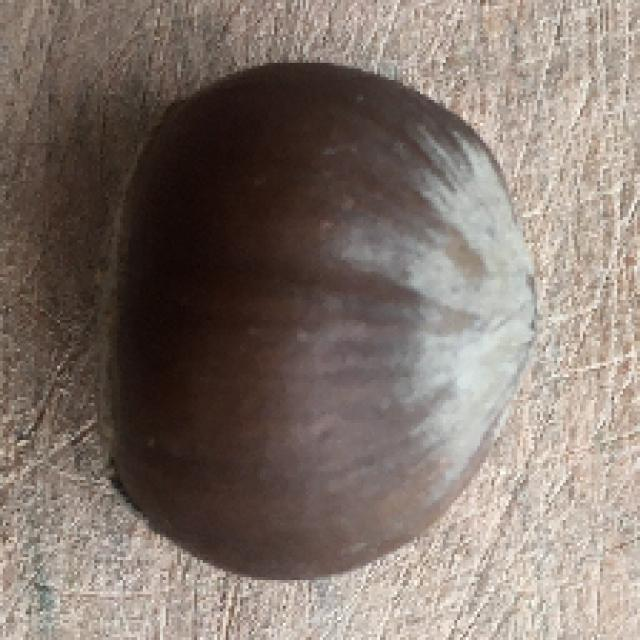damagedHazelnut: (96, 62, 538, 575)
